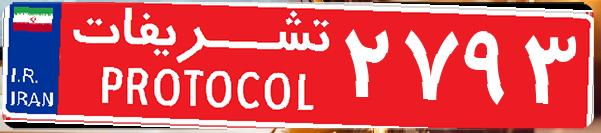2: (340, 20, 400, 115)
3: (520, 20, 580, 115)
7: (400, 20, 460, 115)
9: (460, 20, 520, 115)
تشریفات: (60, 8, 340, 125)
